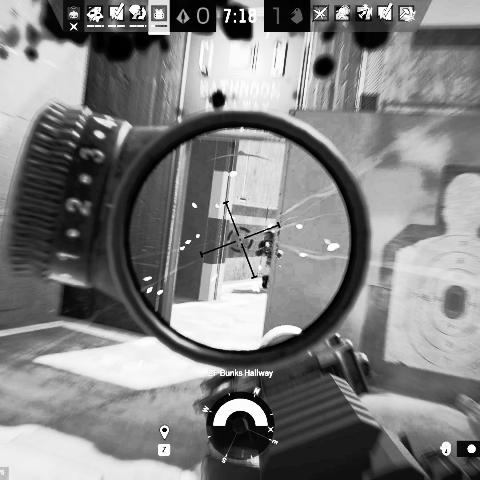Character: (255, 228, 276, 290)
Head: (262, 228, 275, 243)
